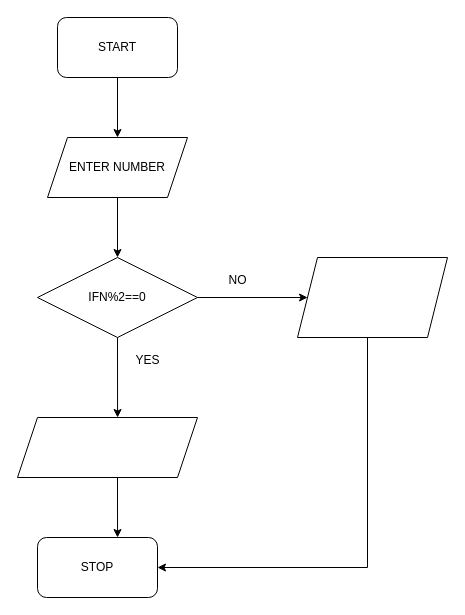
Image size: 465x615. Some labels were removed from this diagram. The centre of each missing label's shape, as x and y in pixels:
"PRINT 'N' IS EVEN" belongs at [107,447].
"PRINT 'N' IS ODD" belongs at [372,297].
